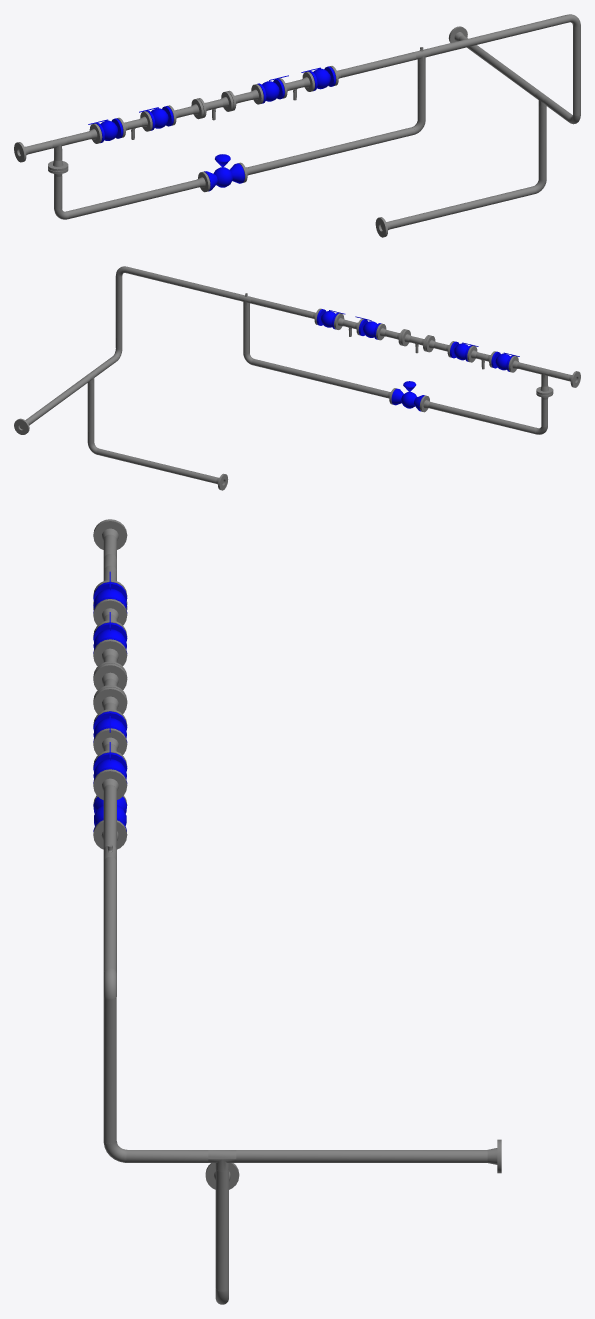
Rendered from Piping 1.fbx.
3 renders of one model, top to bottom at view 1: azimuth 30°, elevation 25°; view 2: azimuth 150°, elevation 25°; view 3: azimuth 270°, elevation 25°, orthographic. The views are drawn at different scales.
Visible parts, largest first — view 1: ACPPPIPE (×10), ACPPPIPEINLINEASSET (×5); view 2: ACPPPIPE (×9), ACPPPIPEINLINEASSET (×5); view 3: ACPPPIPE (×5).
Boxes of the visible parts, x1,y1,x2,y2 form: ACPPPIPE (×10): [54, 14, 580, 229]; ACPPPIPEINLINEASSET (×5): [88, 66, 336, 191]; ACPPPIPE (×9): [25, 266, 537, 483]; ACPPPIPEINLINEASSET (×5): [316, 309, 519, 411]; ACPPPIPE (×5): [103, 857, 487, 1291].
Bounding box in the file's own units: 191 × 72.51 × 69.89.
